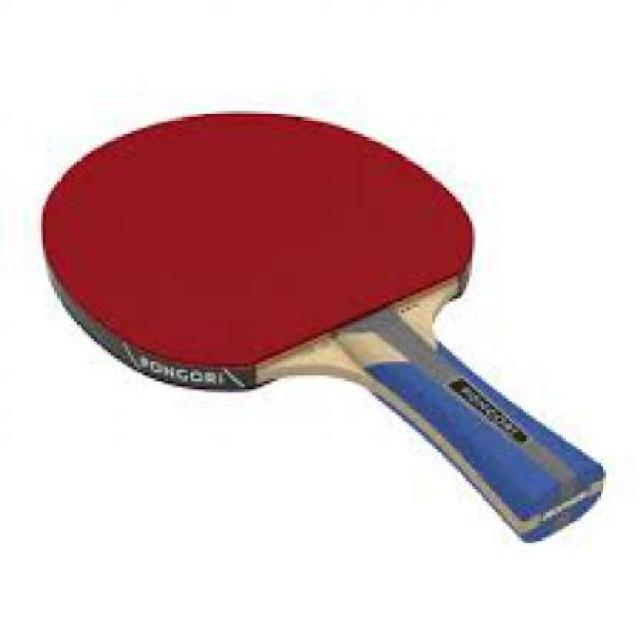table_tennis_racket: (37, 106, 485, 397)
